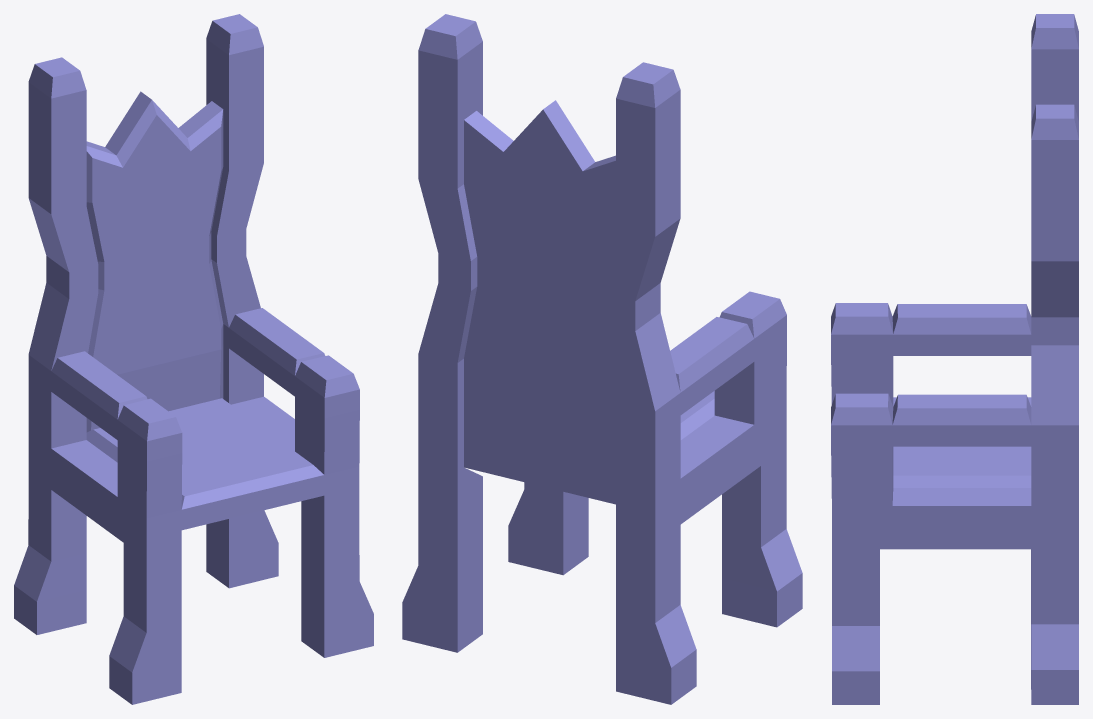
File: chair_odin.FBX
3 views of the same model, side by side, from view 1: azimuth 30°, elevation 25°; view 2: azimuth 150°, elevation 25°; view 3: azimuth 270°, elevation 25° (orthographic). The views are drawn at different scales.
Visible parts, largest first — view 1: chaise; view 2: chaise; view 3: chaise.
Boxes of the visible parts, x1=… form: chaise: x1=14, y1=14, x2=373, y2=704; chaise: x1=402, y1=14, x2=802, y2=704; chaise: x1=831, y1=14, x2=1078, y2=704.
Size of the model in its own units: 61.25 by 52.03 by 134.
